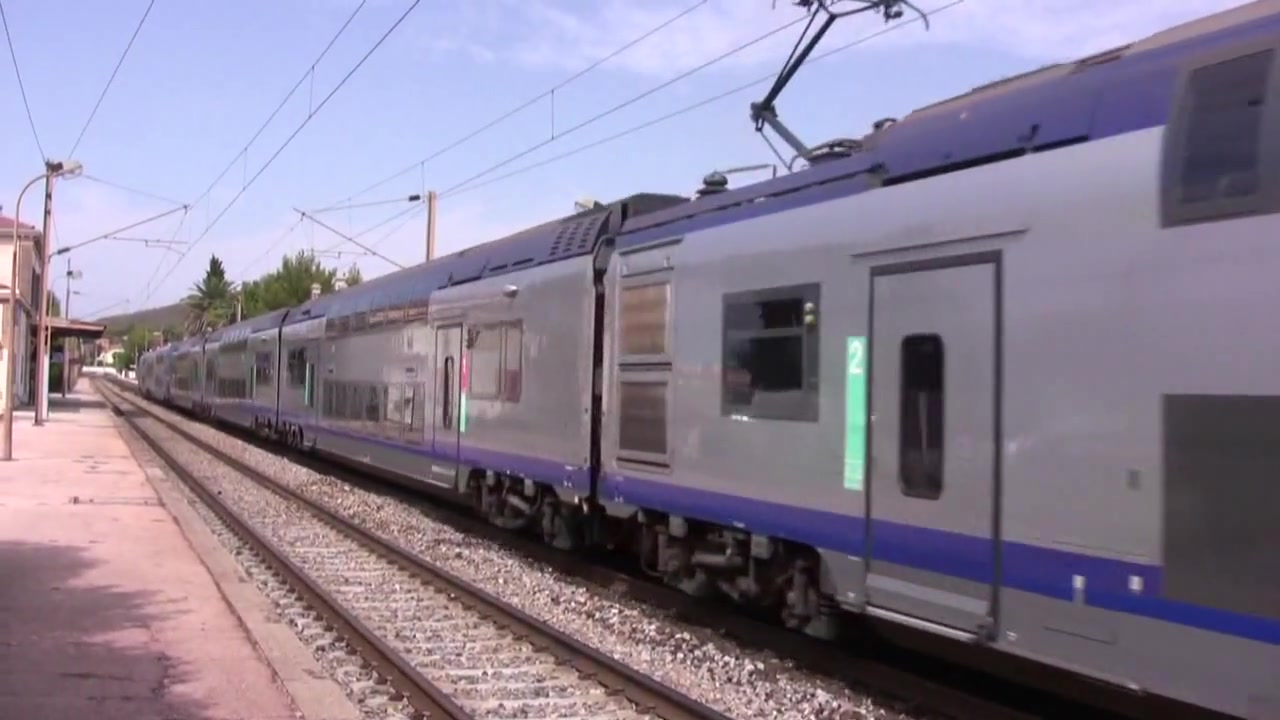train: (132, 1, 1280, 720)
